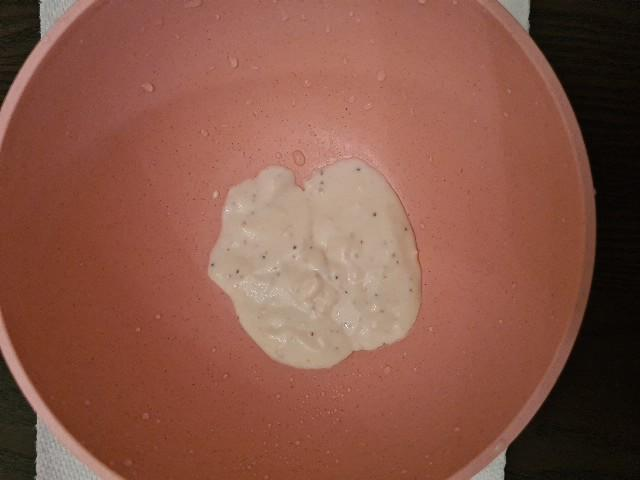kichen waste: (207, 159, 422, 369)
